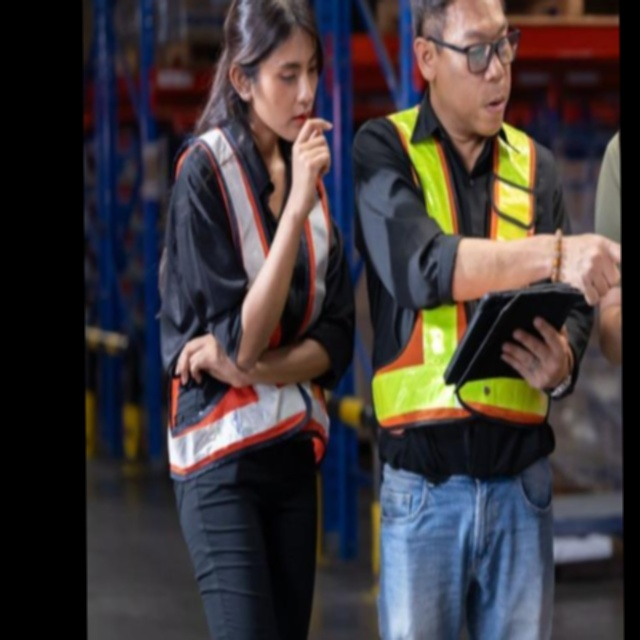Con_Chaleco: (362, 106, 556, 431), (168, 128, 332, 466)
Sin_Casco_Mascarrilla: (408, 0, 513, 135), (226, 0, 323, 140)
